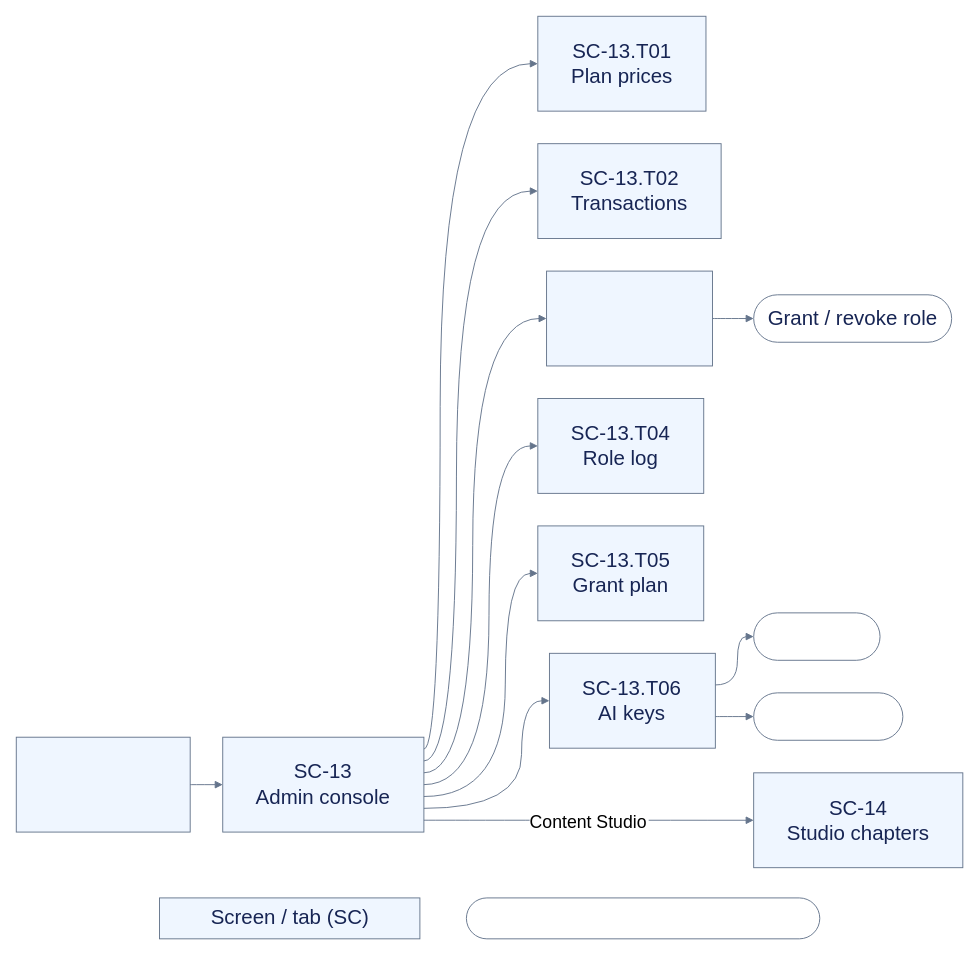
Some shapes in this 979 by 955 pixel diagram are drawn without their labels. Each missing label, with the box of its shape:
Action / form / dialog: (465, 897, 820, 939)
Add AI key: (753, 612, 880, 660)
Delete AI key: (753, 692, 903, 740)
SC-13.T03 Roles: (546, 270, 712, 366)
SC-26 Studio login: (15, 736, 190, 832)
